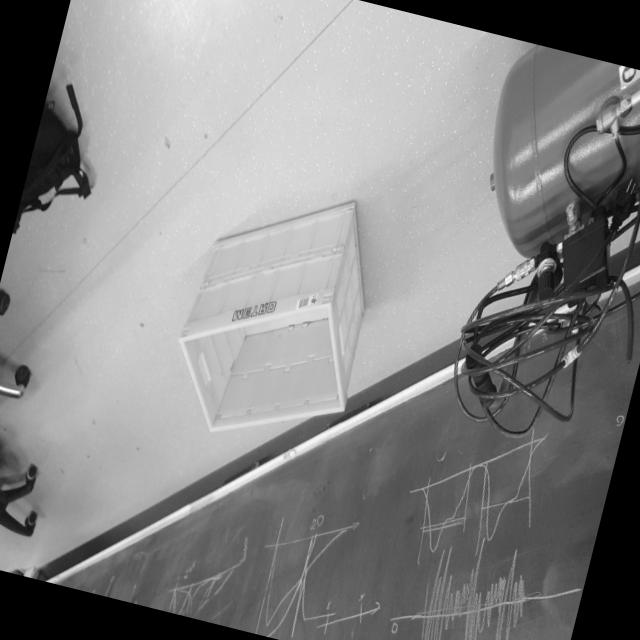box: (150, 124, 415, 478)
